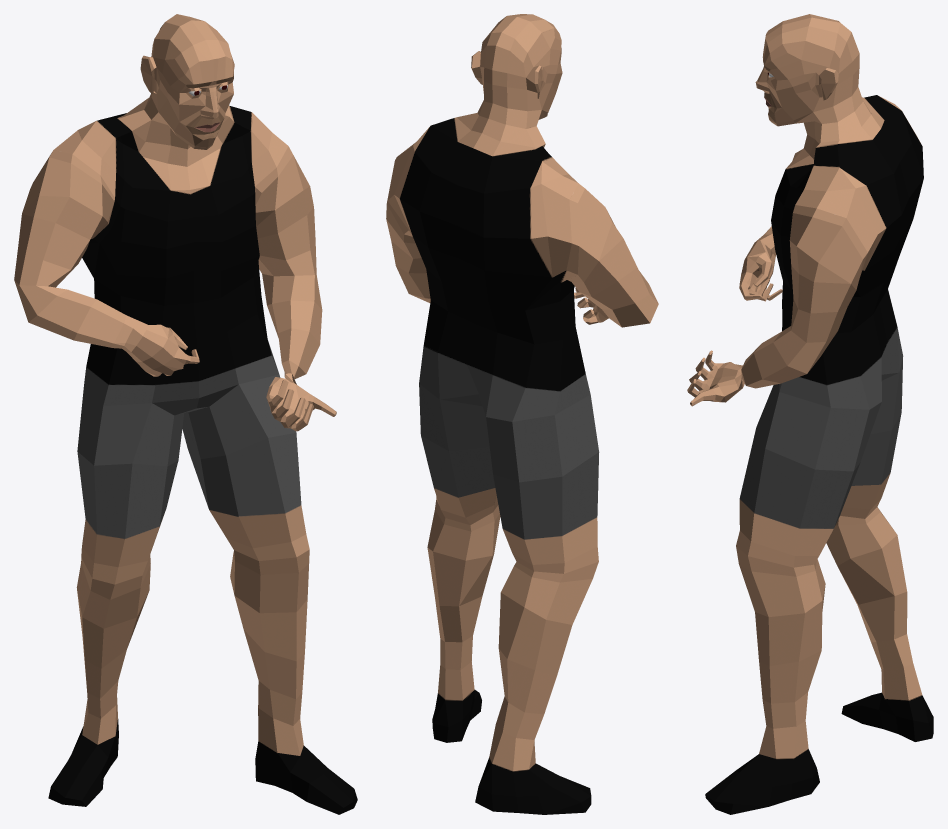
File: PlayerIdle(219).obj
3 renders of one model, left to right at view 1: azimuth 30°, elevation 25°; view 2: azimuth 150°, elevation 25°; view 3: azimuth 270°, elevation 25°, orthographic. The views are drawn at different scales.
Visible parts, largest first — view 1: Plane002; view 2: Plane002; view 3: Plane002.
Boxes of the visible parts, left/top/right/bottom form: Plane002: left=14, top=14, right=357, bottom=814; Plane002: left=386, top=14, right=658, bottom=814; Plane002: left=687, top=14, right=933, bottom=814.
Bounding box in the file's own units: 676 × 1801 × 544.
